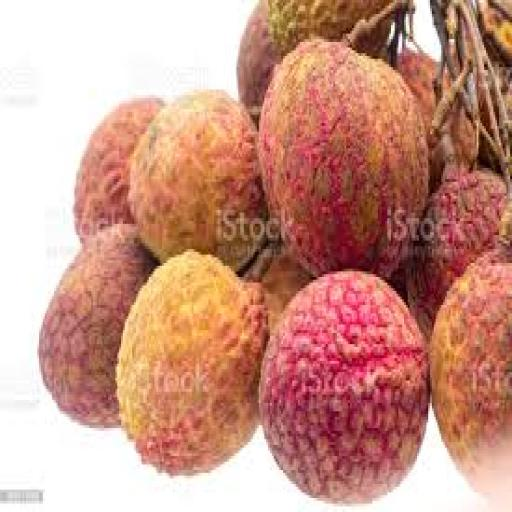lychee: (259, 40, 428, 279), (261, 272, 428, 503), (118, 252, 268, 475), (129, 90, 266, 271), (40, 224, 154, 428), (431, 247, 511, 509), (408, 168, 506, 338), (75, 98, 161, 240), (269, 0, 390, 55), (397, 51, 444, 190), (237, 0, 281, 123), (261, 252, 312, 332)
